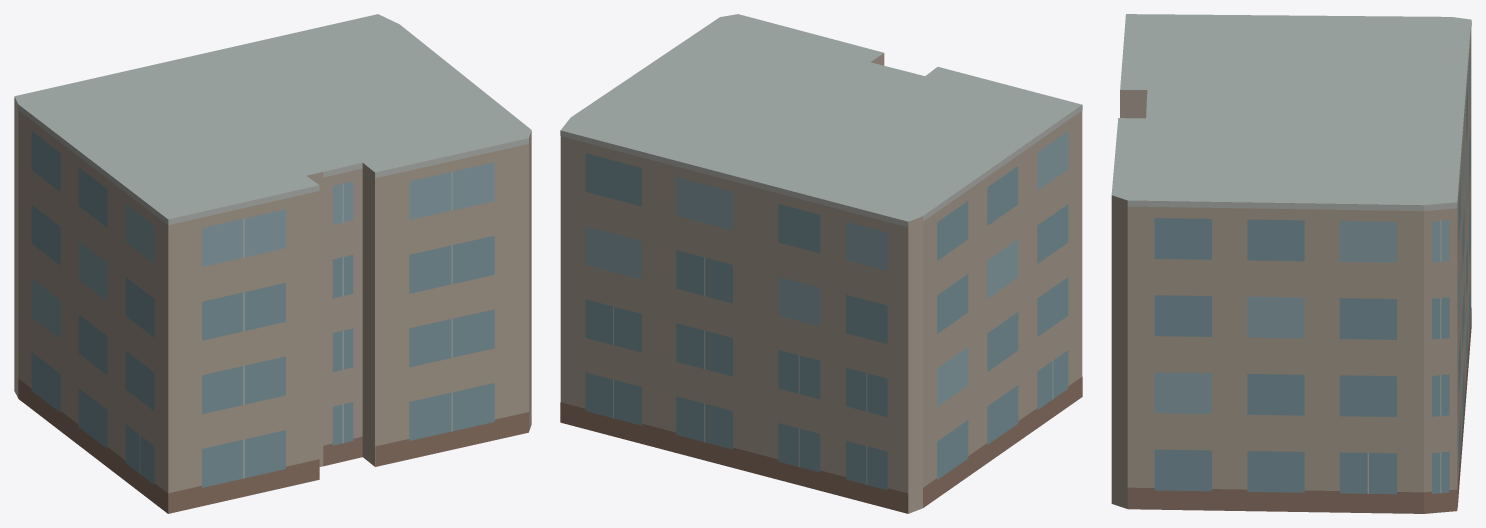
The model's file is survey-upis-32990387.glb.
3 renders of one model, left to right at view 1: azimuth 30°, elevation 25°; view 2: azimuth 150°, elevation 25°; view 3: azimuth 270°, elevation 25°, orthographic. The views are drawn at different scales.
Visible parts, largest first — view 1: survey-upis-32990387.tmp; view 2: survey-upis-32990387.tmp; view 3: survey-upis-32990387.tmp.
Part boxes in pixels (x1,y1,x2,y2): survey-upis-32990387.tmp: [14, 14, 531, 513]; survey-upis-32990387.tmp: [560, 14, 1082, 513]; survey-upis-32990387.tmp: [1111, 14, 1471, 513].
Bounding box in the file's own units: 16.61 × 12.5 × 13.22.
